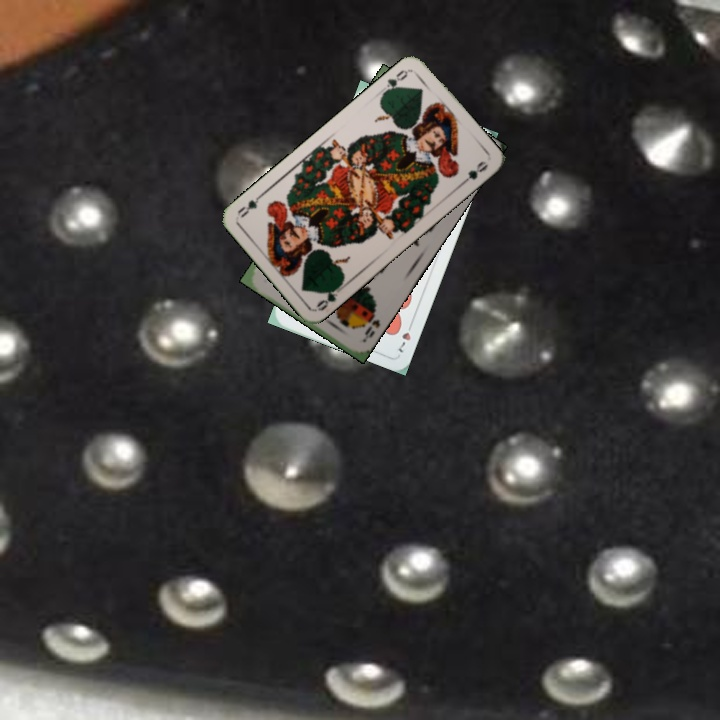GO: (312, 280, 347, 314), (379, 66, 412, 97)
H7: (394, 317, 415, 356)
SO: (359, 304, 383, 344)
